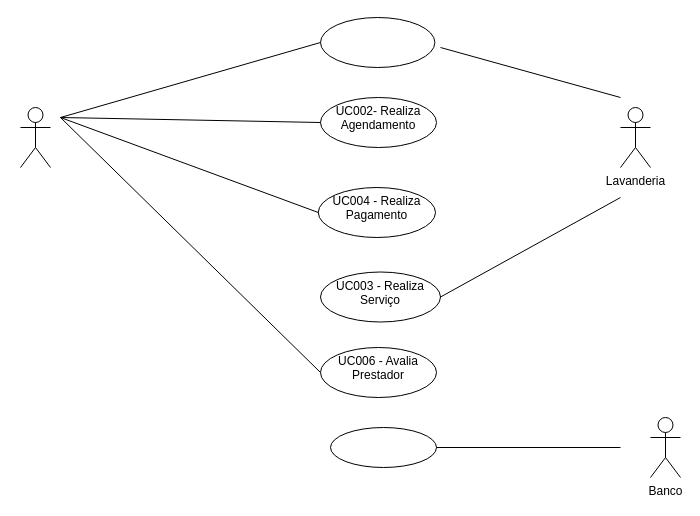
Some shapes in this 700 by 516 pixel diagram are drawn without their labels. Each missing label, with the box of its shape:
Cliente: (20, 106, 50, 168)
UC005 - Gerencia Pagamento: (330, 426, 436, 468)
UC01 - Realiza cadastro: (320, 16, 435, 68)
